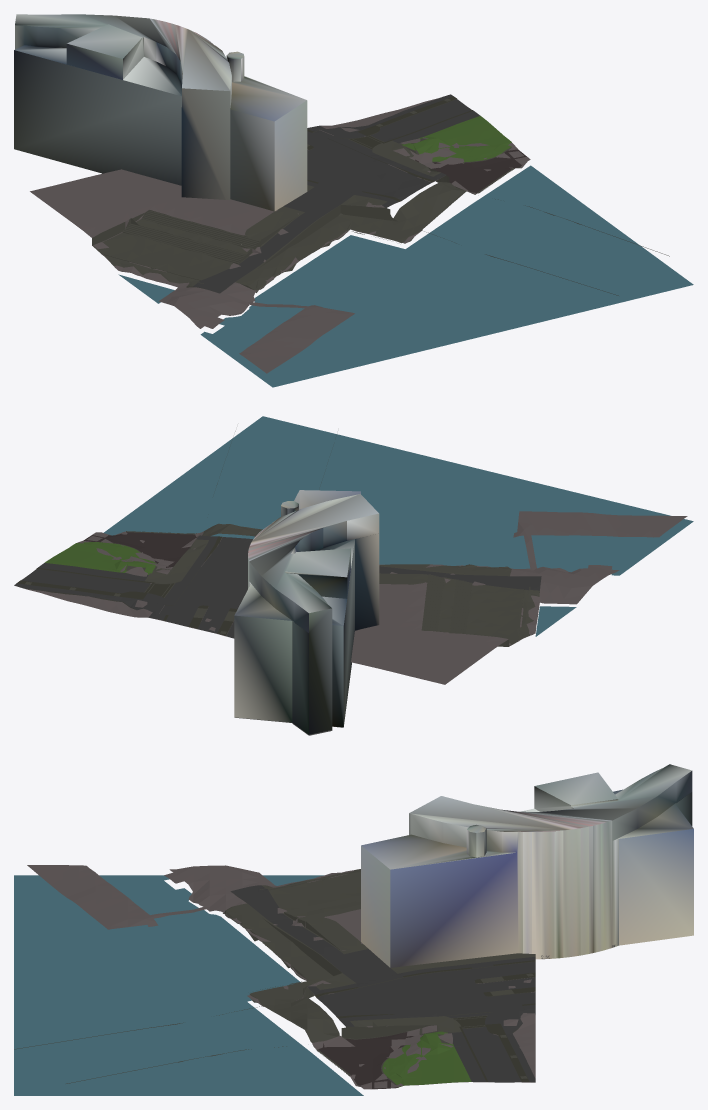
3 renders of one model, top to bottom at view 1: azimuth 30°, elevation 25°; view 2: azimuth 150°, elevation 25°; view 3: azimuth 270°, elevation 25°, orthographic. The views are drawn at different scales.
Parts seen in each view (by area): view 1: c_m20_p07; view 2: c_m20_p07; view 3: c_m20_p07.
Part boxes in pixels (left/top/right/bottom): c_m20_p07: left=14, top=14, right=693, bottom=387; c_m20_p07: left=14, top=416, right=693, bottom=735; c_m20_p07: left=14, top=764, right=693, bottom=1095.
Size of the model in its own units: 128 by 37.9 by 167.
